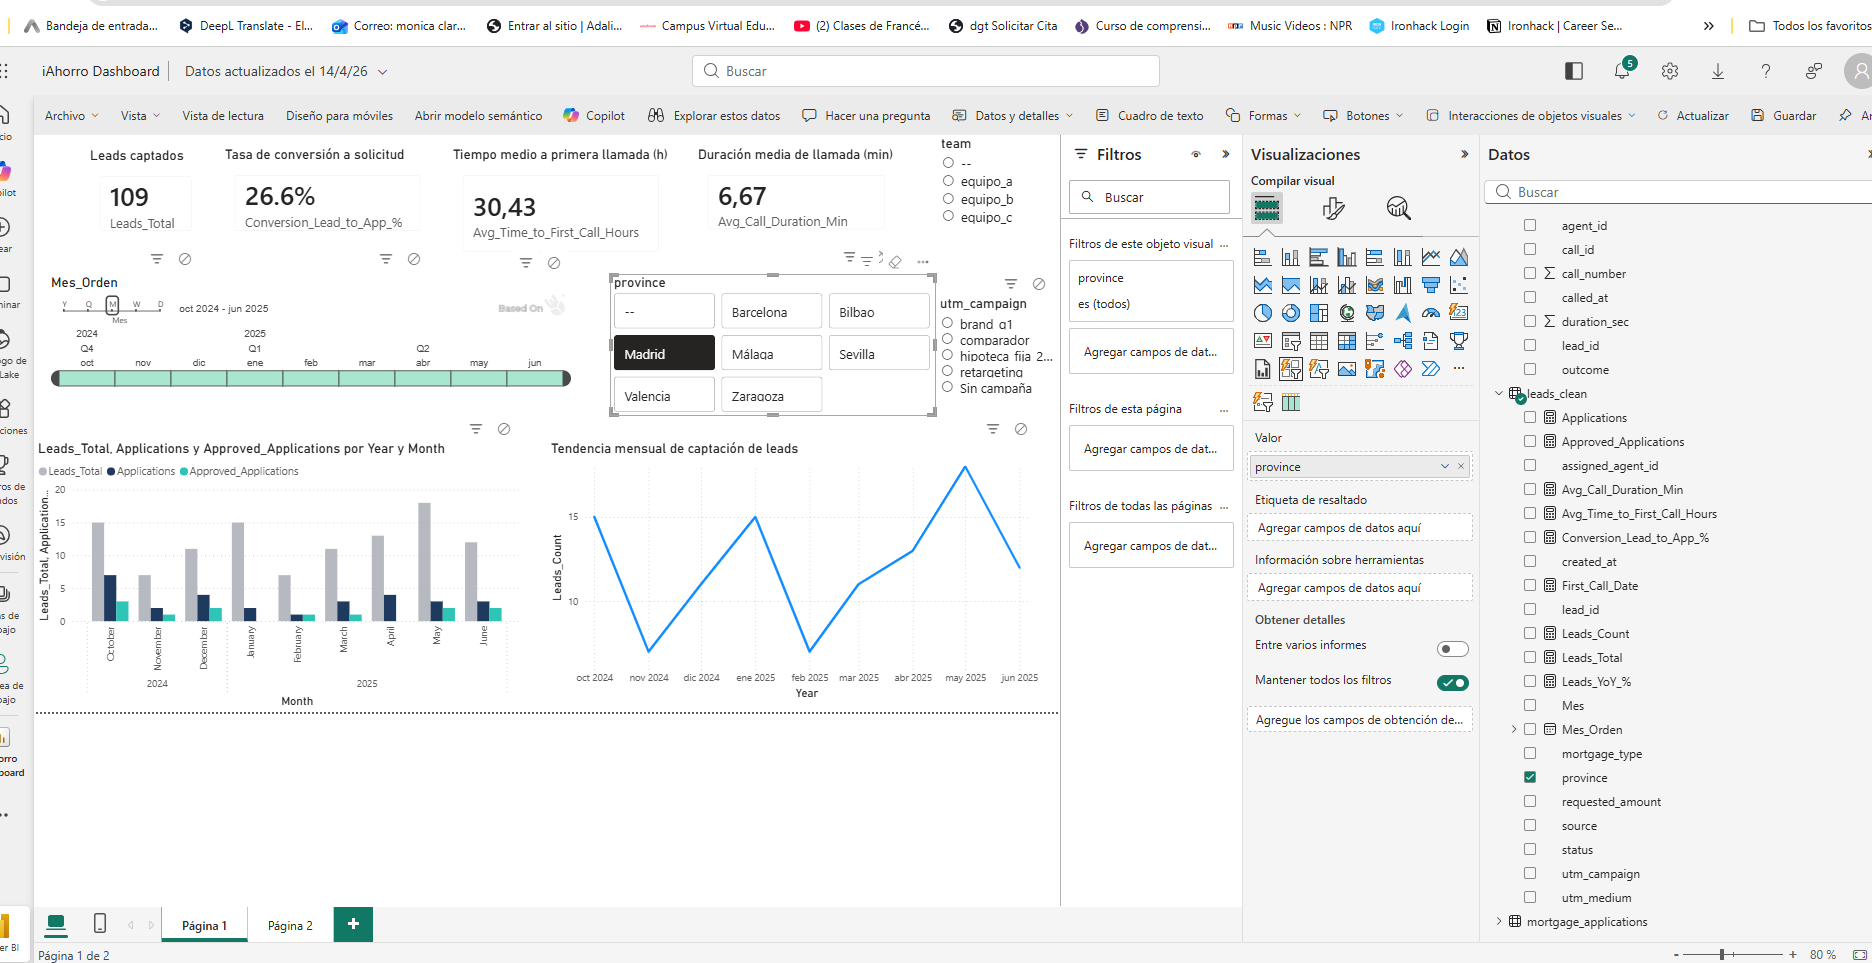

Layout of this report page (visuals, bound fields, positions):
{"tool":"powerbi","page":{"name":"Página 1","canvas":[1280,720],"ordinal":0},"visuals":[{"type":"cardVisual","title":"Leads captados","fields":{"Data":["leads_clean.Leads_Total","leads_clean.Leads_Total"]},"box":[64.9,15,149.7,122.3],"z":0},{"type":"cardVisual","title":"Tasa de conversión a solicitud","fields":{"Data":["leads_clean.Conversion_Lead_to_App_%"]},"box":[233.3,13.7,267,123.5],"z":1000},{"type":"cardVisual","title":"Tiempo medio a primera llamada (h)","fields":{"Data":["leads_clean.Avg_Time_to_First_Call_Hours"]},"box":[517.7,13.7,279.5,149.7],"z":2000},{"type":"clusteredColumnChart","fields":{"Y":["leads_clean.Leads_Total","leads_clean.Applications","leads_clean.Approved_Applications"],"Category":["leads_clean.Mes_Orden.Variación.Date Hierarchy.Year","leads_clean.Mes_Orden.Variación.Date Hierarchy.Month"]},"box":[0,380.5,612.6,339.3],"z":3000},{"type":"listSlicer","fields":{"Values":["agents 2.team"]},"box":[1126.5,0,153.5,210.8],"z":4000},{"type":"listSlicer","fields":{"Values":["leads_clean.utm_campaign"]},"box":[1125.3,199.6,154.7,193.4],"z":6000},{"type":"BasedOnTimelineSlicer","fields":{"Time":["leads_clean.Mes_Orden"]},"box":[16.2,173.4,658.7,146],"z":7000},{"type":"cardVisual","title":"Duración media de llamada (min)","fields":{"Data":["leads_clean.Avg_Call_Duration_Min"]},"box":[823.4,13.7,255.8,121],"z":8000},{"type":"lineChart","title":"Tendencia mensual de captación de leads","fields":{"Y":["leads_clean.Leads_Count"],"Category":["leads_clean.Mes_Orden.Variación.Date Hierarchy.Year","leads_clean.Mes_Orden.Variación.Date Hierarchy.Month","leads_clean.Mes_Orden.Variación.Date Hierarchy.Day"]},"box":[640,380.5,617.5,328.1],"z":8001},{"type":"advancedSlicerVisual","fields":{"Values":["leads_clean.province"]},"box":[718.6,173.4,406.7,177.2],"z":8002}]}

Visuals, with their boxes on the page's 1280x720 design canvas (x1, y1, x2, y2). These are canvas units, not pixel positions in the 1872x963 screenshot, which may show the page scaled, cropped or inside an application window:
"Leads captados" cardVisual: 65, 15, 215, 137
"Tasa de conversión a solicitud" cardVisual: 233, 14, 500, 137
"Tiempo medio a primera llamada (h)" cardVisual: 518, 14, 797, 163
clusteredColumnChart - leads_clean.Leads_Total x leads_clean.Applications: 0, 380, 613, 720
listSlicer - agents 2.team: 1126, 0, 1280, 211
listSlicer - leads_clean.utm_campaign: 1125, 200, 1280, 393
BasedOnTimelineSlicer - leads_clean.Mes_Orden: 16, 173, 675, 319
"Duración media de llamada (min)" cardVisual: 823, 14, 1079, 135
"Tendencia mensual de captación de leads" lineChart: 640, 380, 1258, 709
advancedSlicerVisual - leads_clean.province: 719, 173, 1125, 351
